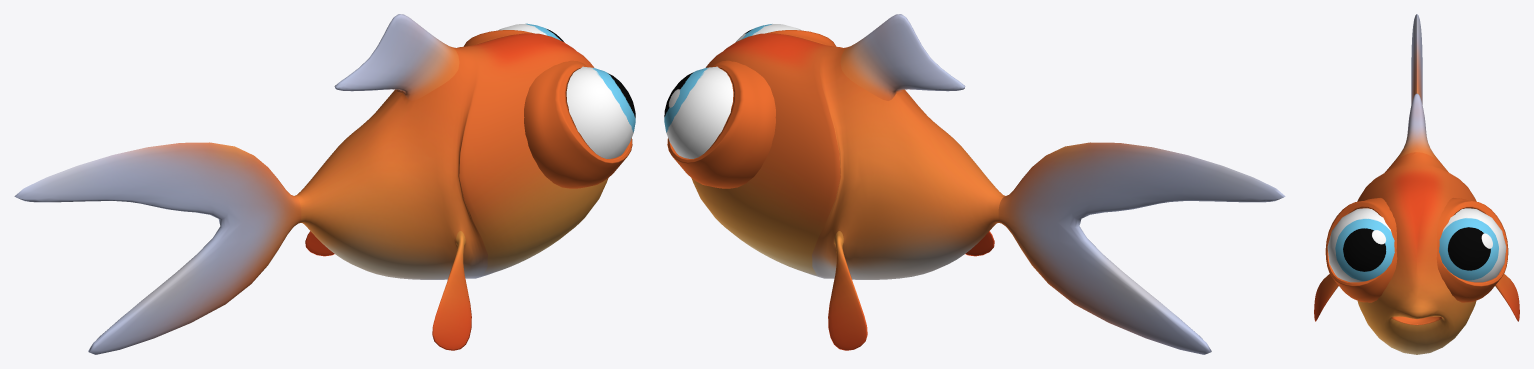
Rendered from Fin-v1.fbx.
3 views of the same model, side by side, from view 1: azimuth 30°, elevation 25°; view 2: azimuth 150°, elevation 25°; view 3: azimuth 270°, elevation 25° (orthographic). The views are drawn at different scales.
Visible parts, largest first — view 1: Fish_Smooth:Body, Fish_Smooth:polySurface1, Fish_Smooth:polySurface6; view 2: Fish_Smooth:Body, Fish_Smooth:polySurface1, Fish_Smooth:polySurface7; view 3: Fish_Smooth:Body, Fish_Smooth:polySurface1, Fish_Smooth:polySurface6, Fish_Smooth:polySurface7.
Part boxes in pixels (<box>): Fish_Smooth:Body: <box>14,14,608,354</box>; Fish_Smooth:polySurface1: <box>464,30,632,188</box>; Fish_Smooth:polySurface6: <box>566,66,635,158</box>; Fish_Smooth:Body: <box>691,14,1285,354</box>; Fish_Smooth:polySurface1: <box>667,30,835,188</box>; Fish_Smooth:polySurface7: <box>664,66,733,158</box>; Fish_Smooth:Body: <box>1314,14,1519,354</box>; Fish_Smooth:polySurface1: <box>1325,198,1508,302</box>; Fish_Smooth:polySurface6: <box>1327,208,1394,282</box>; Fish_Smooth:polySurface7: <box>1439,208,1506,282</box>.
Bounding box in the file's own units: 5.14 × 2.31 × 1.89.
